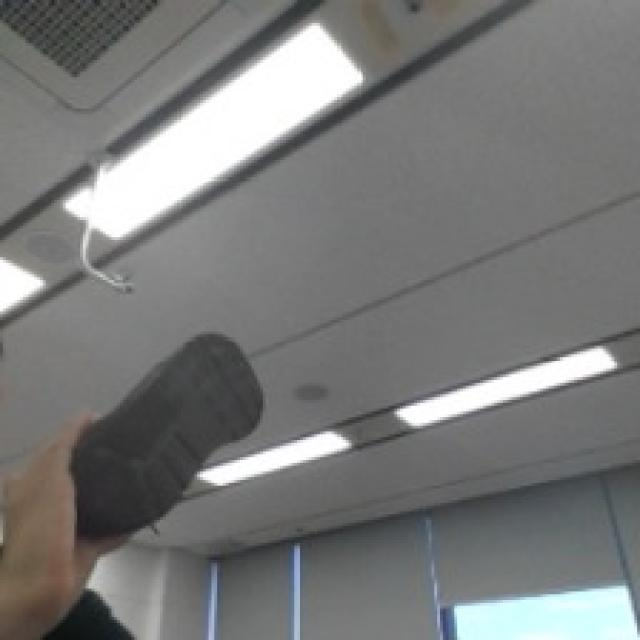shoe: (40, 304, 281, 554)
